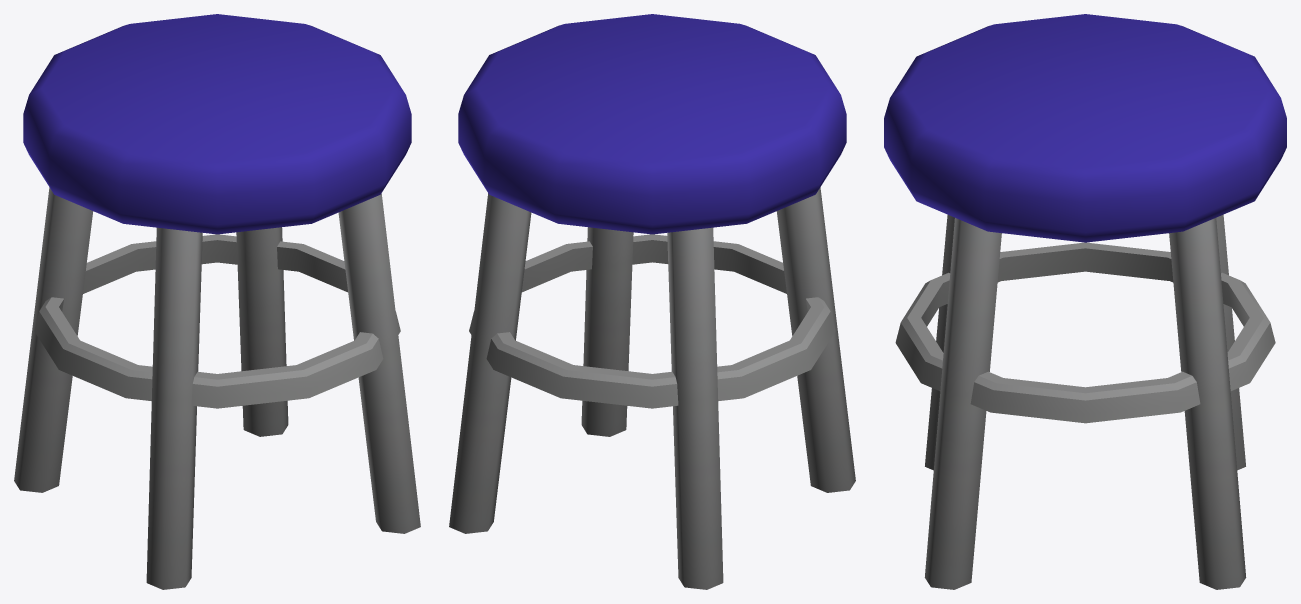
The model's file is Chair_2_C.glb.
3 renders of one model, left to right at view 1: azimuth 30°, elevation 25°; view 2: azimuth 150°, elevation 25°; view 3: azimuth 270°, elevation 25°, orthographic. The views are drawn at different scales.
Parts seen in each view (by area): view 1: Chair_2_C; view 2: Chair_2_C; view 3: Chair_2_C.
Part boxes in pixels (x1=…): Chair_2_C: x1=14, y1=14, x2=420, y2=589; Chair_2_C: x1=449, y1=14, x2=855, y2=589; Chair_2_C: x1=884, y1=14, x2=1286, y2=589.
Bounding box in the file's own units: 0.5002 × 0.591 × 0.5004.
2 materials, 2 textured.
